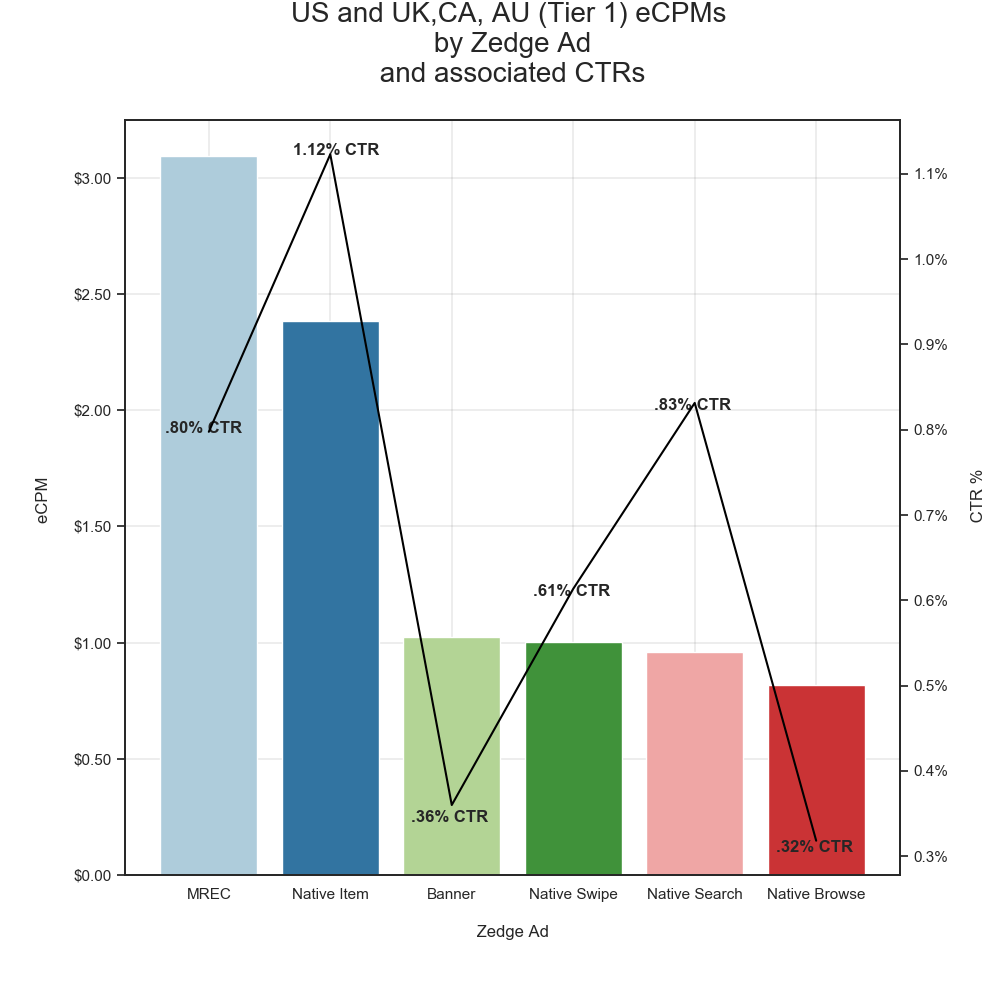

This screenshot's page, from the dashboard's own definition file:
{"tool":"tableau","page":{"name":"Dash-Banner-Native","canvas":[1000,800],"ordinal":0},"visuals":[{"type":"worksheet","title":"Banner-Native","mark":"Bar","cols":["ad_name","year"],"box":[0,0,825,800]},{"type":"legend","title":"Banner-Native","param":"[federated.0r0igg40si73g6184mxyn0eqz123].[none:connection:nk]","box":[825,0,171,800]}]}

Visuals, with their boxes on the page's 1000x800 design canvas (x1, y1, x2, y2). These are canvas units, not pixel positions in the 1000x1000 screenshot, which may show the page scaled, cropped or inside an application window:
"Banner-Native" worksheet (Bar marks): select_region(0, 0, 825, 800)
"Banner-Native" legend: select_region(825, 0, 996, 800)
